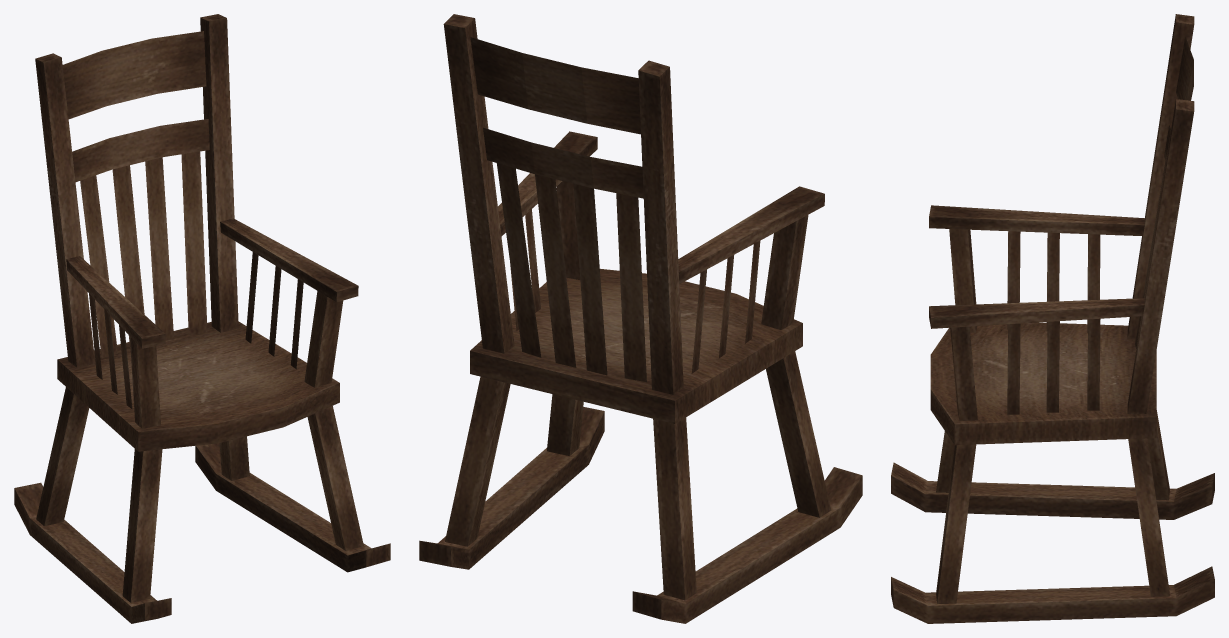
File: Rocking.Chair.fbx
The picture shows the model from 3 angles, left to right: view 1: azimuth 30°, elevation 25°; view 2: azimuth 150°, elevation 25°; view 3: azimuth 270°, elevation 25°; orthographic projection. The views are drawn at different scales.
Visible parts, largest first — view 1: Rocking.Chair; view 2: Rocking.Chair; view 3: Rocking.Chair.
Boxes of the visible parts, bbox=[...] form: Rocking.Chair: bbox=[14, 14, 390, 623]; Rocking.Chair: bbox=[419, 14, 862, 623]; Rocking.Chair: bbox=[891, 14, 1214, 623].
Size of the model in its own units: 75.36 by 138 by 80.82.
